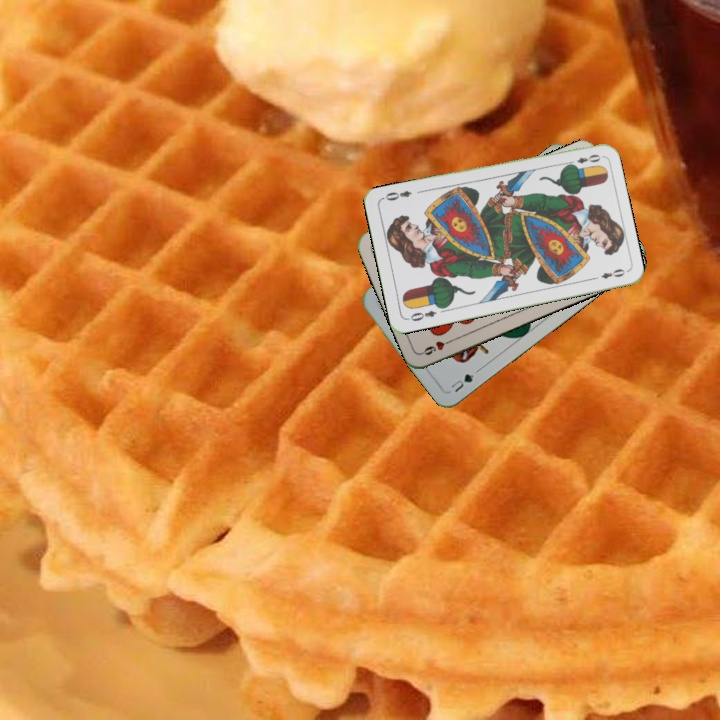EO: (563, 150, 603, 169), (404, 306, 439, 324)
GU: (447, 366, 481, 395)
H9: (418, 335, 457, 358)
